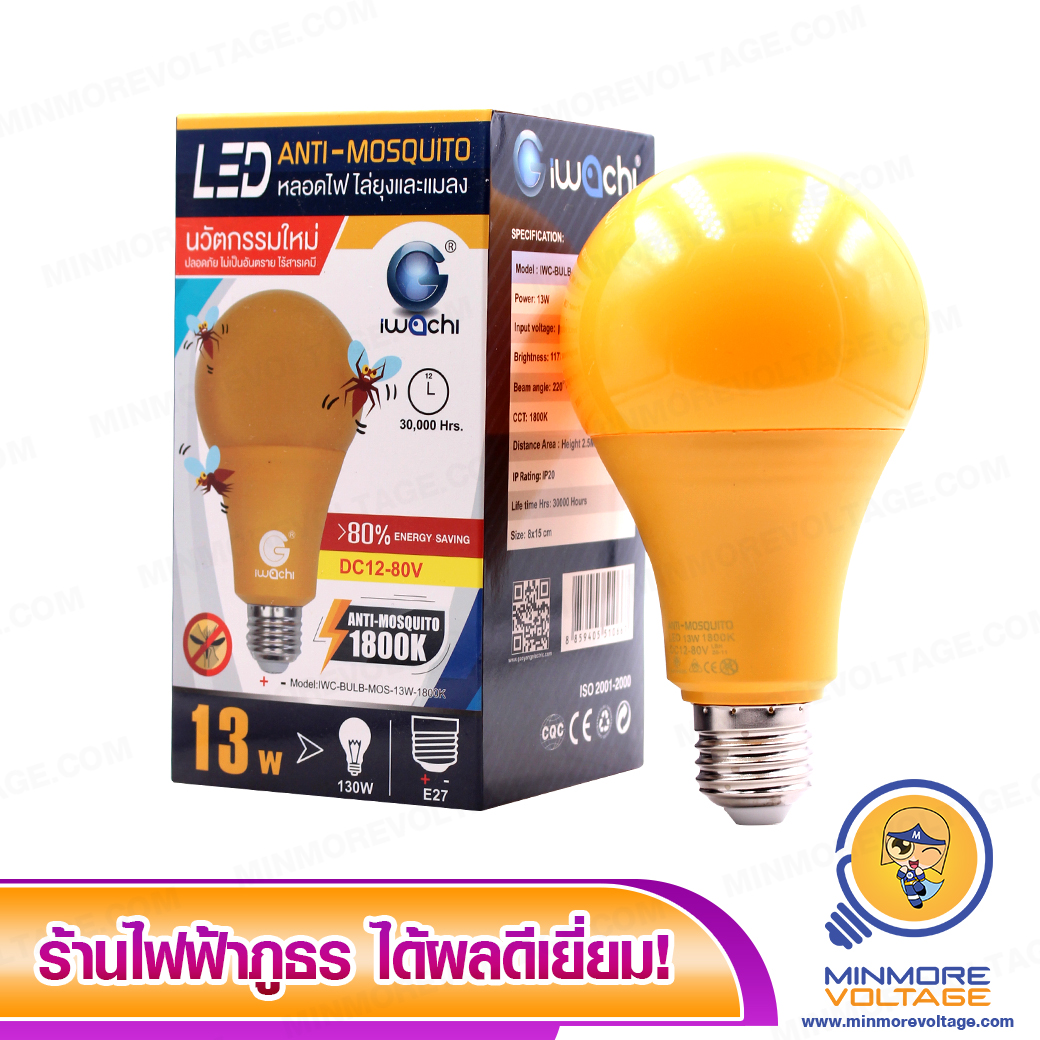Light_bulb: (552, 139, 938, 839)
